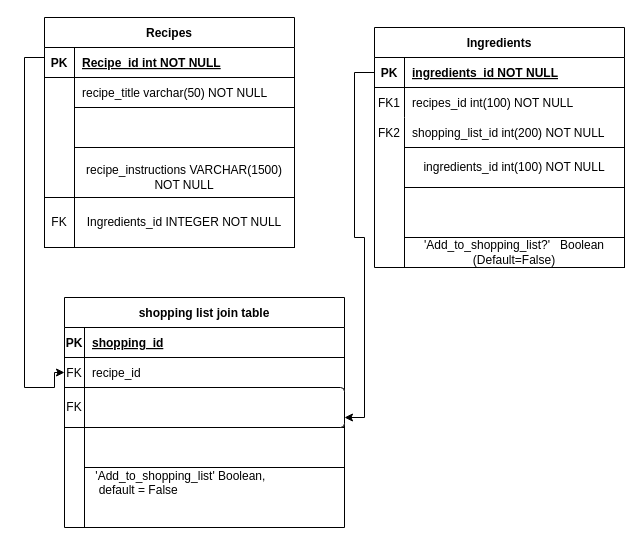
The diagram is 642 pixels wide and 545 high, and some of its shapes have lost their labels. Here are the shapes that lost their labels. From the top down, the box of each, then its label:
(74, 106, 294, 148): recipe_description_varchar(225) NOT NULL
(404, 186, 624, 238): ingredient_name varchar (200) NOT NULL
(64, 386, 344, 428): ingredient_-id Int NOT Null
(84, 426, 344, 468): ingredient_name varchar(200) NOT NULL
